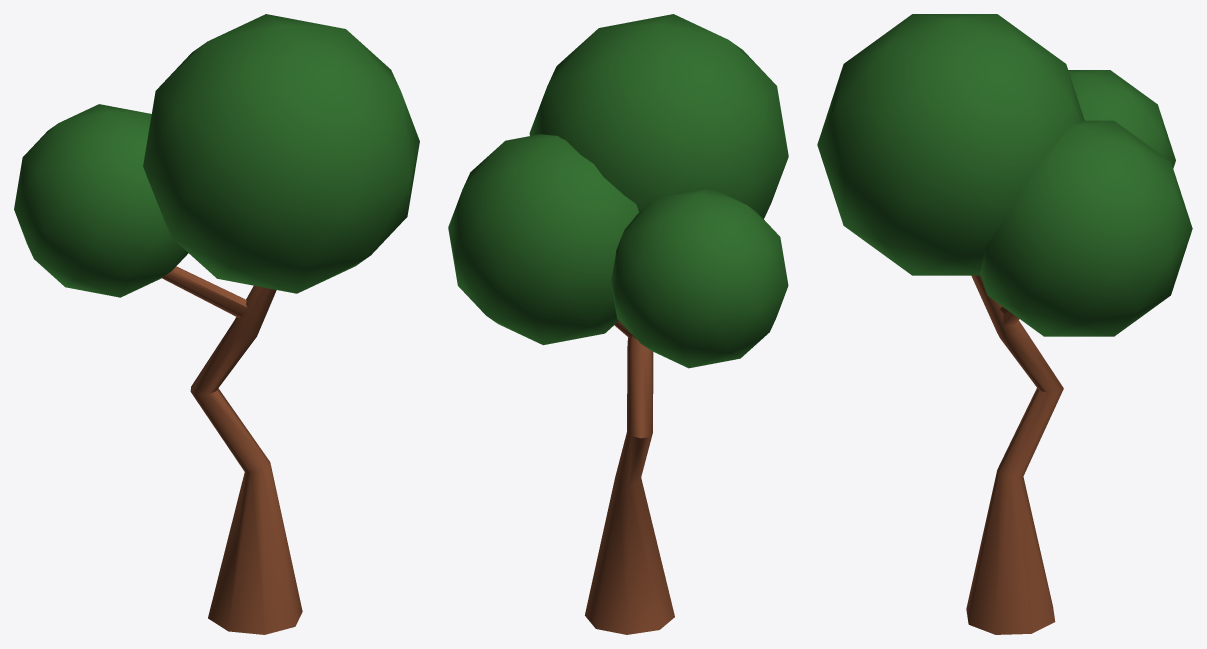
Rendered from arvore1_Wip.fbx.
The picture shows the model from 3 angles, left to right: view 1: azimuth 30°, elevation 25°; view 2: azimuth 150°, elevation 25°; view 3: azimuth 270°, elevation 25°; orthographic projection. The views are drawn at different scales.
Parts seen in each view (by area): view 1: Icosphere.001, Icosphere, Cube; view 2: Icosphere.001, Icosphere.002, Icosphere, Cube; view 3: Icosphere.001, Icosphere.002, Cube, Icosphere.
Boxes of the visible parts, left/top/right/bottom form: Icosphere.001: left=143, top=14, right=419, bottom=293; Icosphere: left=14, top=104, right=188, bottom=297; Cube: left=161, top=266, right=302, bottom=634; Icosphere.001: left=529, top=14, right=788, bottom=218; Icosphere.002: left=448, top=134, right=638, bottom=345; Icosphere: left=611, top=187, right=788, bottom=368; Cube: left=585, top=321, right=674, bottom=634; Icosphere.001: left=817, top=14, right=1084, bottom=275; Icosphere.002: left=979, top=120, right=1192, bottom=336; Cube: left=966, top=275, right=1063, bottom=634; Icosphere: left=1068, top=70, right=1175, bottom=168.
Bounding box in the file's own units: 191 × 338 × 193.
